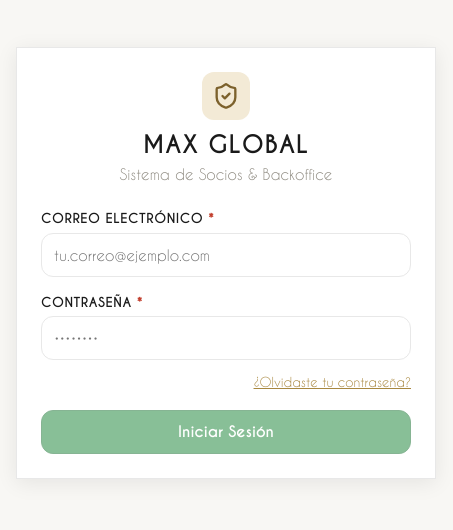
it: TAREA-05 · Bloque 2: Pantalla P-10 Inicio de Sesión › muestra el mensaje de error en español ante credenciales incorrectas
Type "socio002@ejemplo.test" into the field labelled "Correo electrónico *" at point(226, 255), box [41, 233, 411, 277]
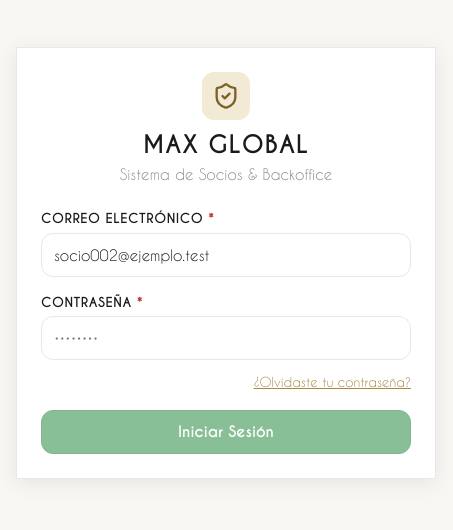
Type "clave_invalida" into the password field labelled "Contraseña *" at point(226, 338), box [41, 316, 411, 360]
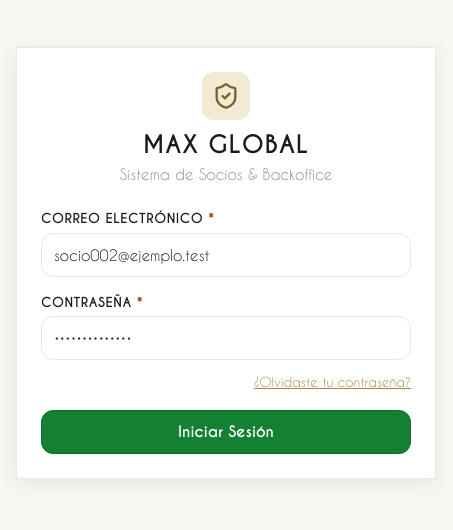
Click the button "Iniciar Sesión" at point(226, 432), box [41, 410, 411, 454]
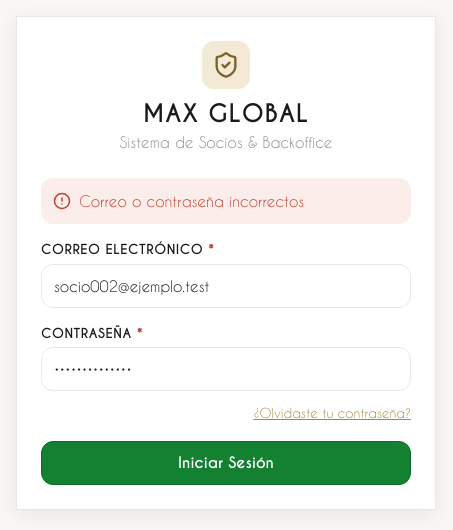
Result: the message "Correo o contraseña incorrectos" is shown at [41, 178, 411, 224]
Result: the text "Correo o contraseña incorrectos" is shown at [79, 190, 304, 212]
